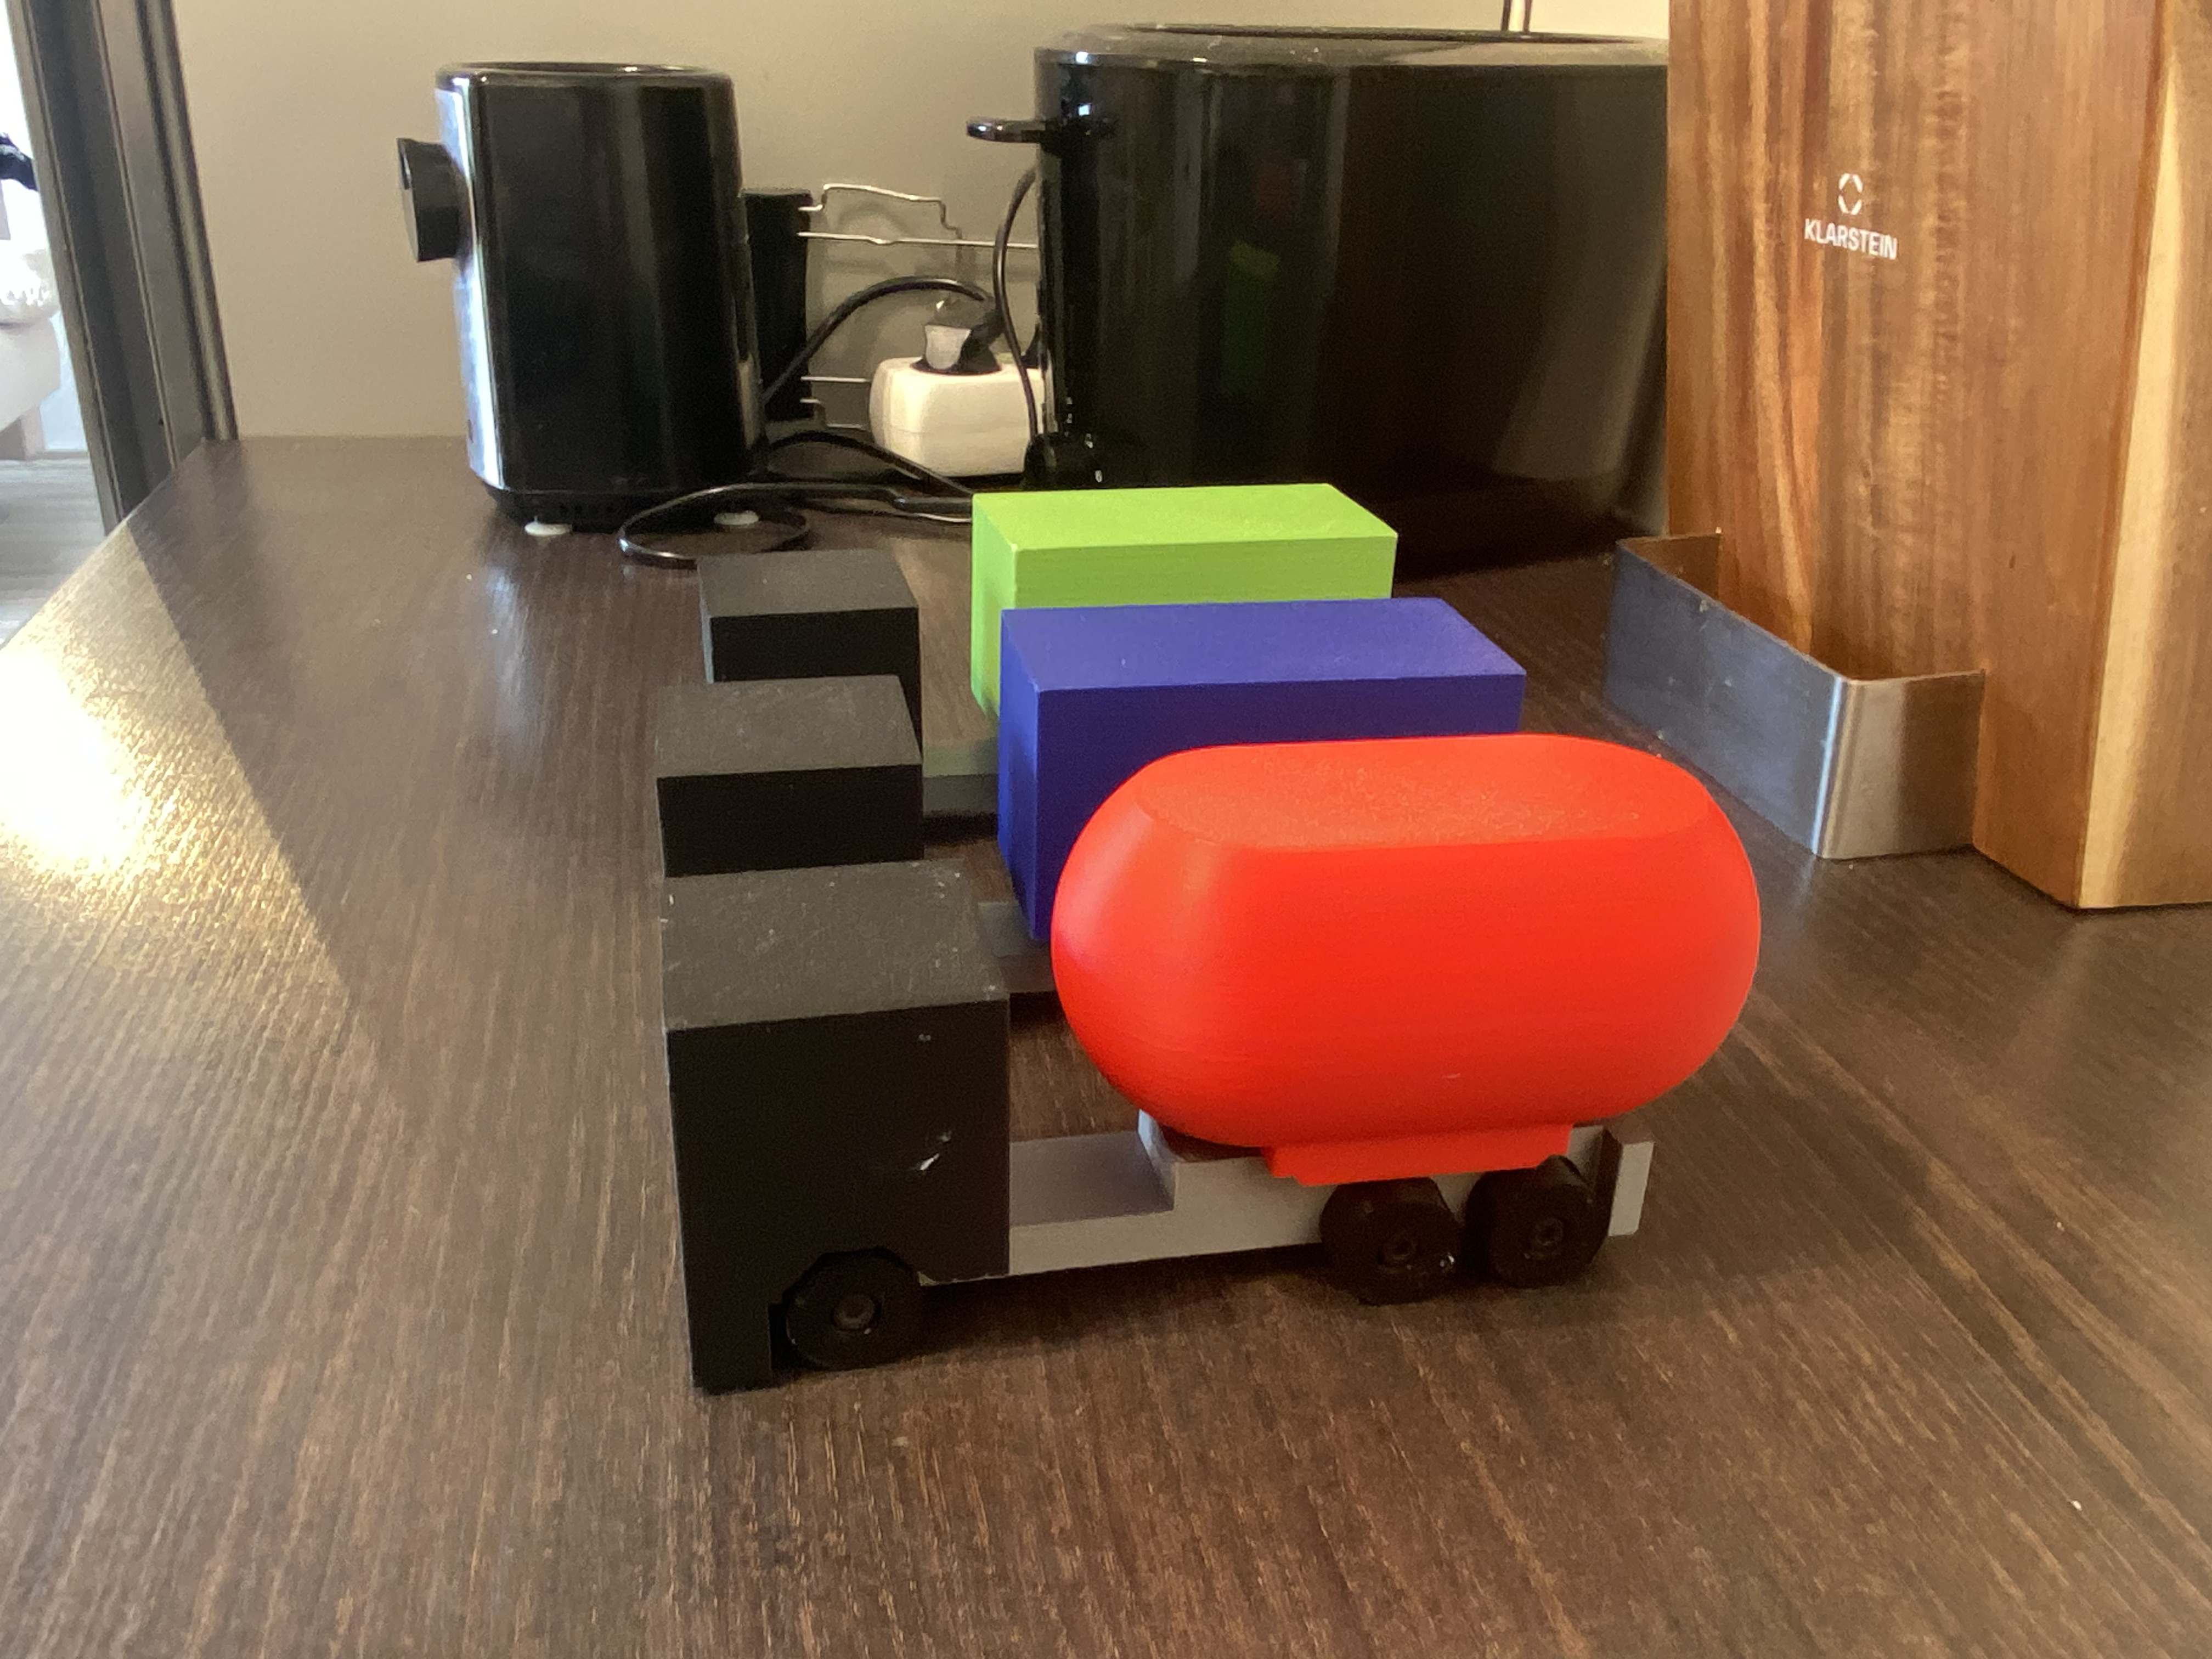blue_truck: (622, 610, 1527, 866)
green_truck: (693, 491, 1399, 666)
red_truck: (662, 735, 1804, 1385)
